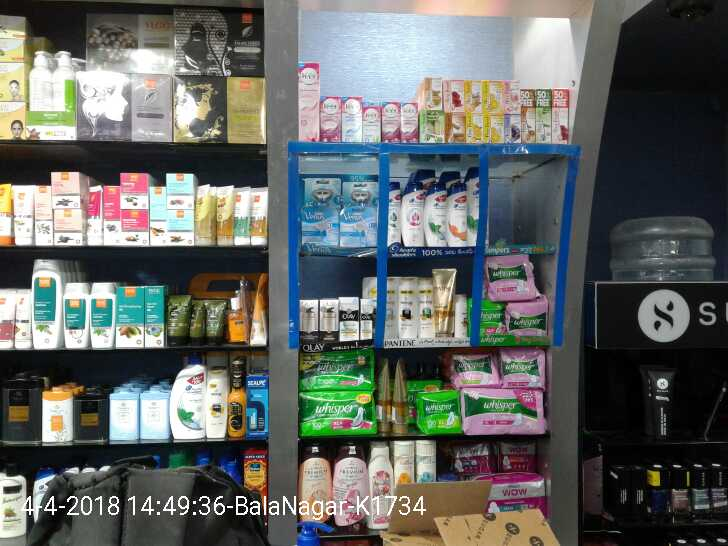venus: (302, 208, 343, 245), (343, 205, 377, 245), (306, 176, 339, 204), (345, 181, 380, 203)
